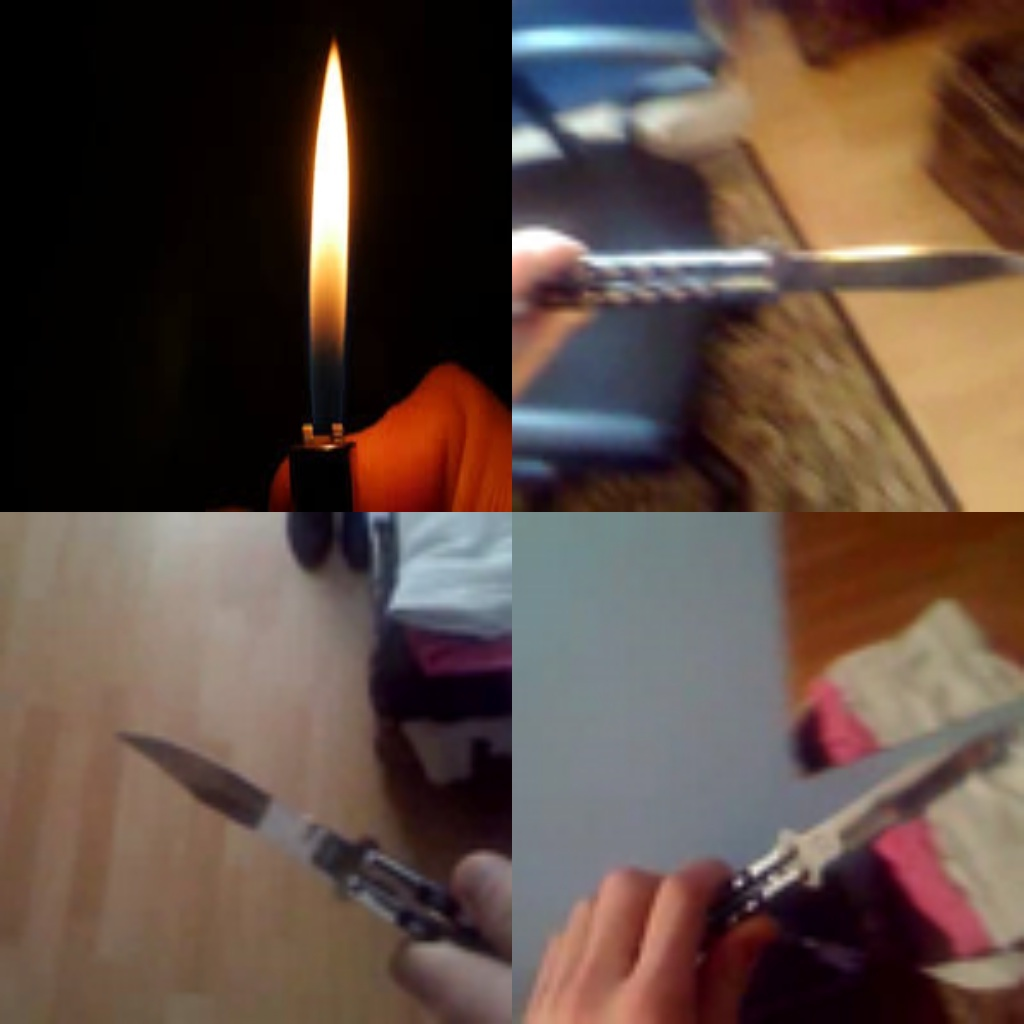fire: (309, 36, 352, 433)
